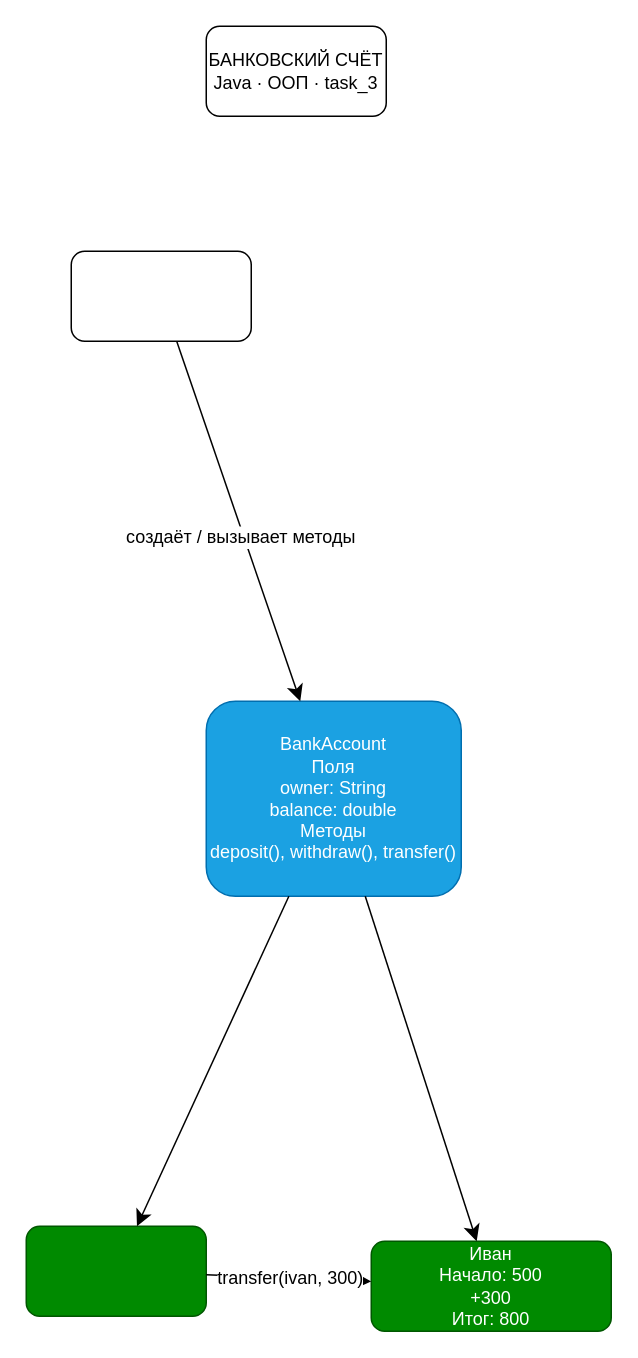
The diagram is 638 pixels wide and 1358 high, and some of its shapes have lost their labels. Each missing label, with the centre of its shape:
"Main main()" goes at [160,295].
"Анна Начало: 1 000 +200 −100 −300 Итог: 800" goes at [115,1270].
